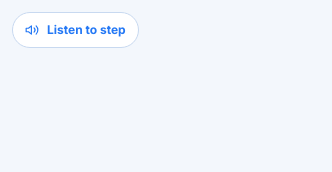
Test case: StepNarrator › speaks the current step text and can be stopped
What coordinates should you click on to do the following:
click the button with aria-label "Listen to step instructions"
I would click on:
 (75, 30)
Its box is [12, 12, 139, 48].
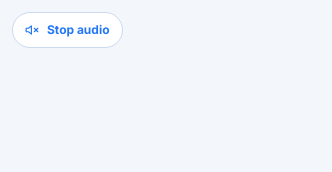
Now the button with aria-label "Stop step narration" is pressed
What coordinates should you click on to do the following:
click the button with aria-label "Stop step narration"
I would click on:
 (67, 30)
Its box is [12, 12, 122, 48].
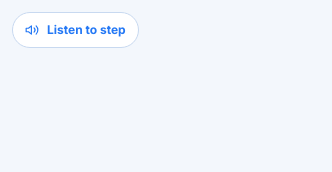
Now the button with aria-label "Listen to step instructions" is not pressed, box [12, 12, 139, 48]
